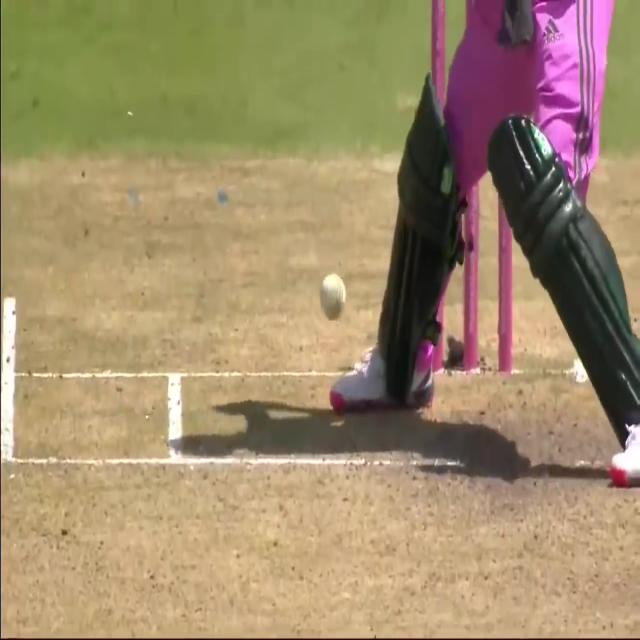Ball: (317, 0, 640, 522)
Batsman: (313, 261, 351, 326)
